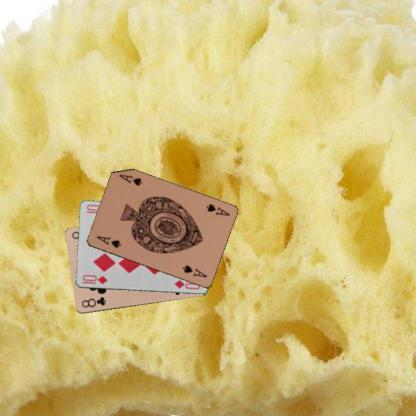10d: (80, 272, 108, 286)
8c: (79, 294, 108, 310)
As: (94, 233, 122, 249), (204, 202, 231, 218)
